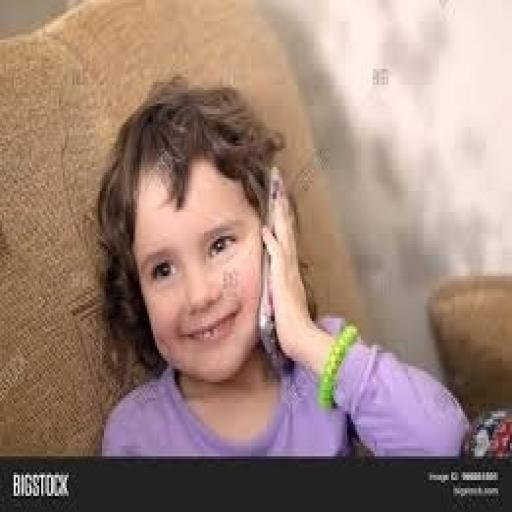texting: (90, 74, 475, 459)
